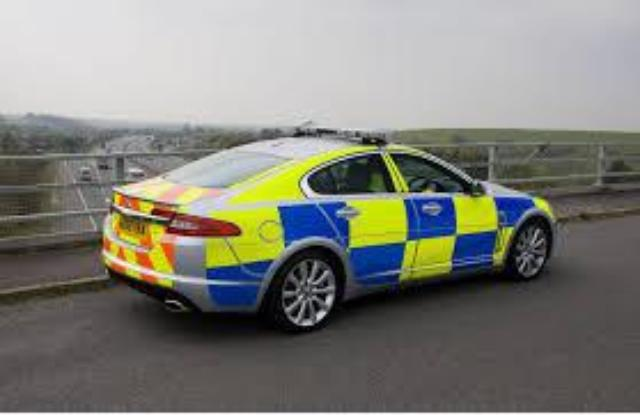police: (101, 124, 557, 335)
